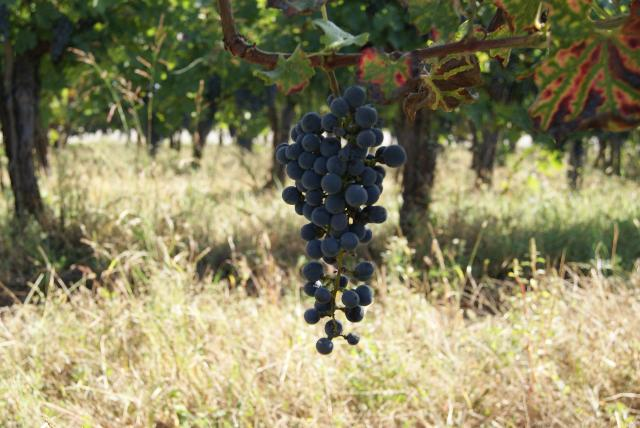grapes: (276, 85, 406, 355)
